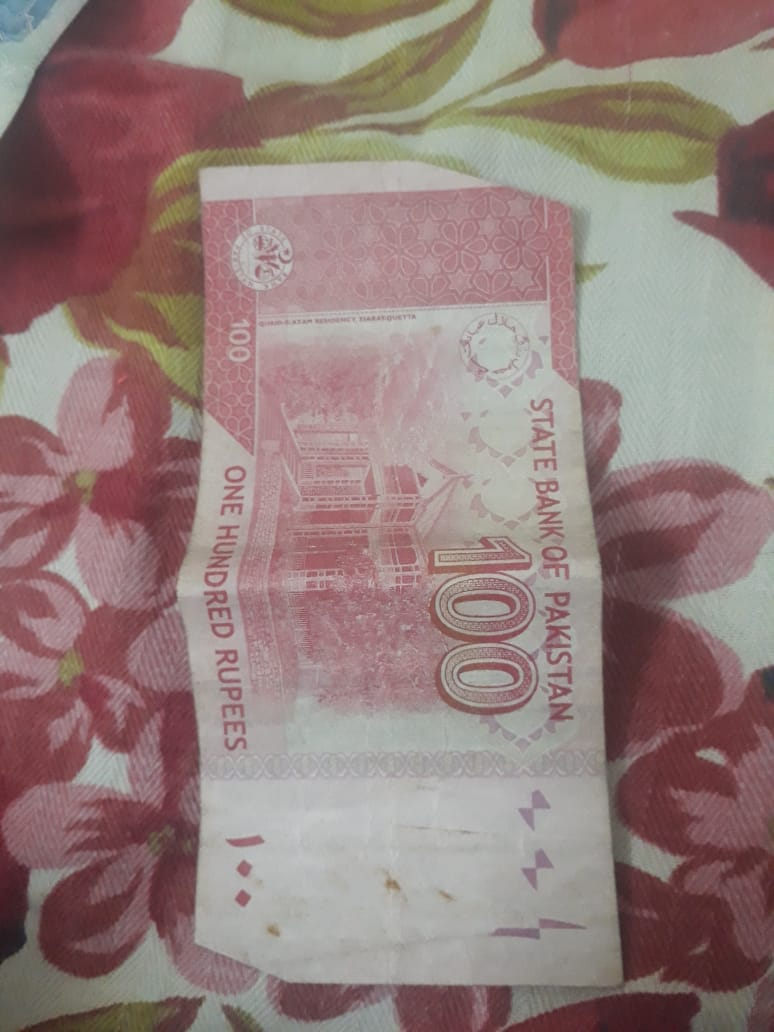100 rupee: (187, 167, 622, 1006)
